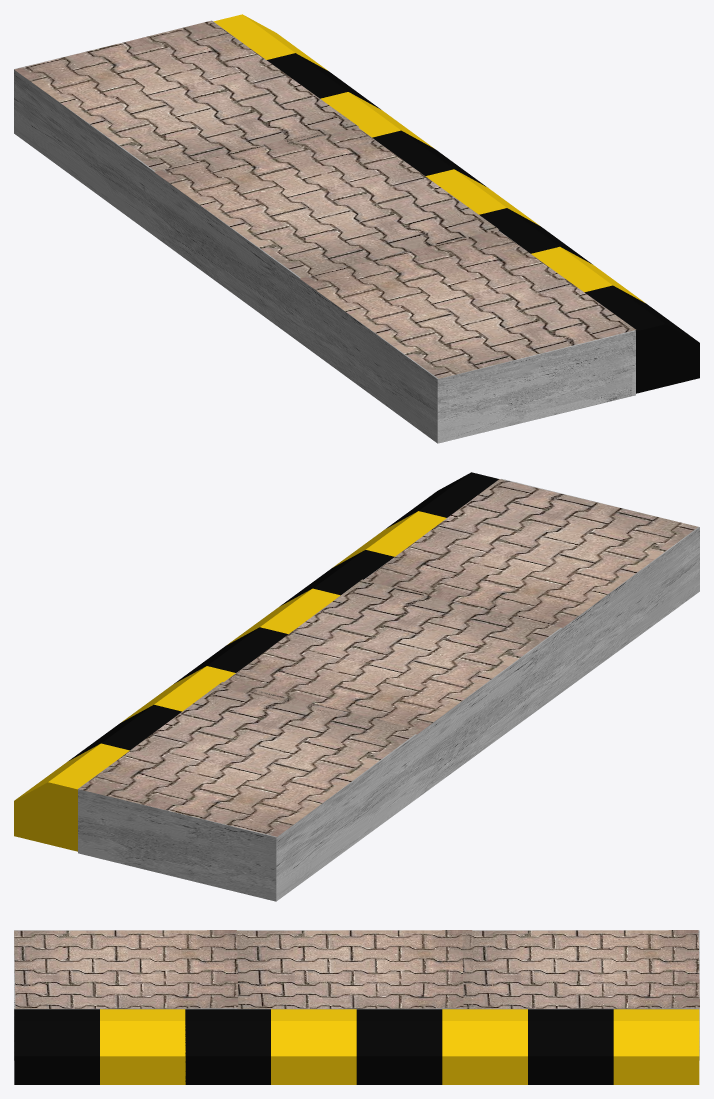
The model's file is footpath.fbx.
3 renders of one model, top to bottom at view 1: azimuth 30°, elevation 25°; view 2: azimuth 150°, elevation 25°; view 3: azimuth 270°, elevation 25°, orthographic. The views are drawn at different scales.
Parts seen in each view (by area): view 1: Plane.002; view 2: Plane.002; view 3: Plane.002.
Boxes of the visible parts, x1,y1,x2,y2 form: Plane.002: (14,14,699,443); Plane.002: (14,472,699,901); Plane.002: (14,930,699,1084).
Bounding box in the file's own units: 265 × 62.11 × 740.
Materials: 4 (2 with a texture image).
